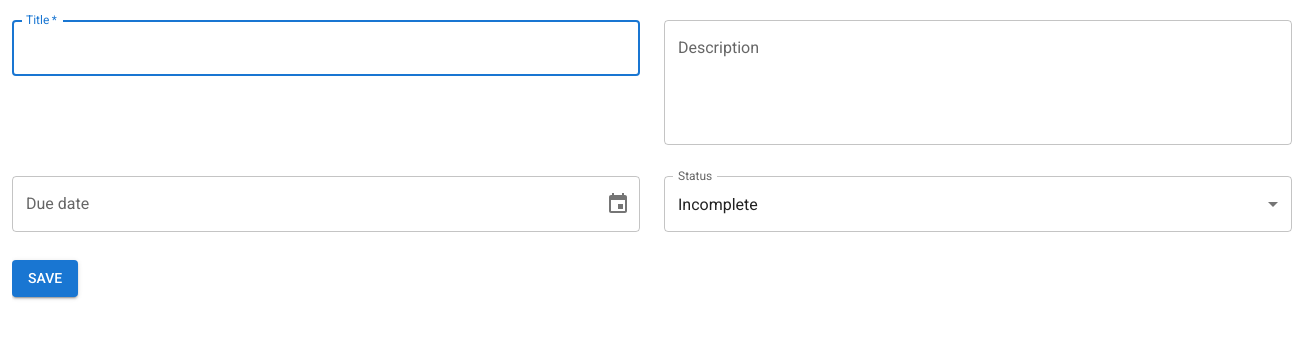
TaskForm › Edit Mode › allows changing status from Incomplete to Completed
The width and height of the screenshot is (1292, 350).
What coordinates should you click on to do the following:
click the dropdown
I would click on:
 (718, 204)
Its box is [678,194,758,214].
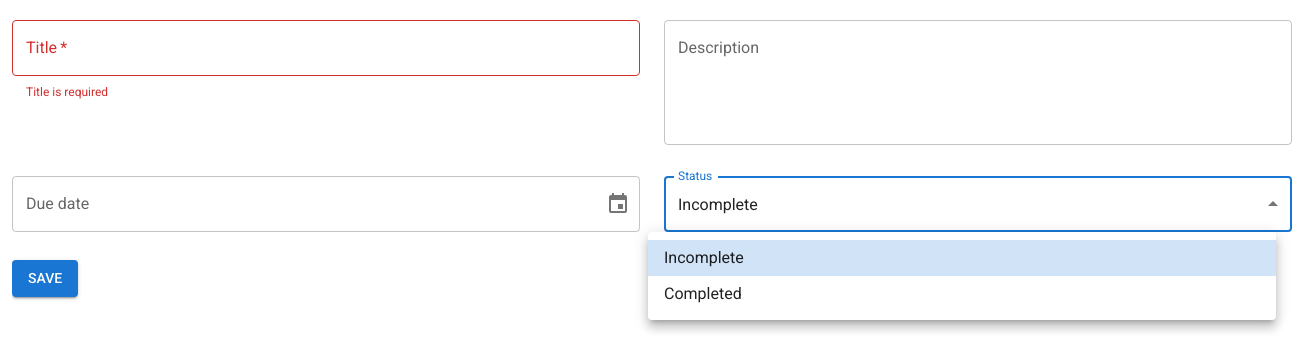
What coordinates should you click on to do the following:
click the option with test id "task-form-status-completed"
I would click on:
 (703, 294)
Its box is [664,284,742,303].
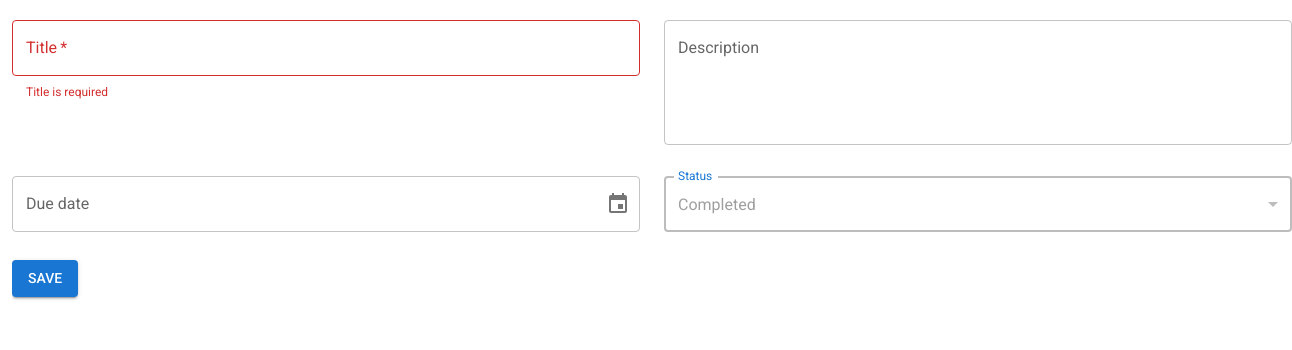
Expected: the dropdown reads "Completed", [678,194,756,214]
